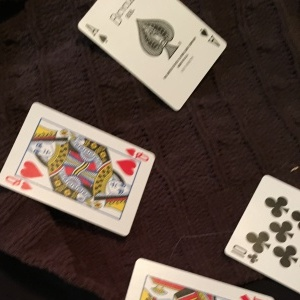card: (0, 101, 157, 239), (75, 1, 229, 114), (223, 175, 299, 291)
